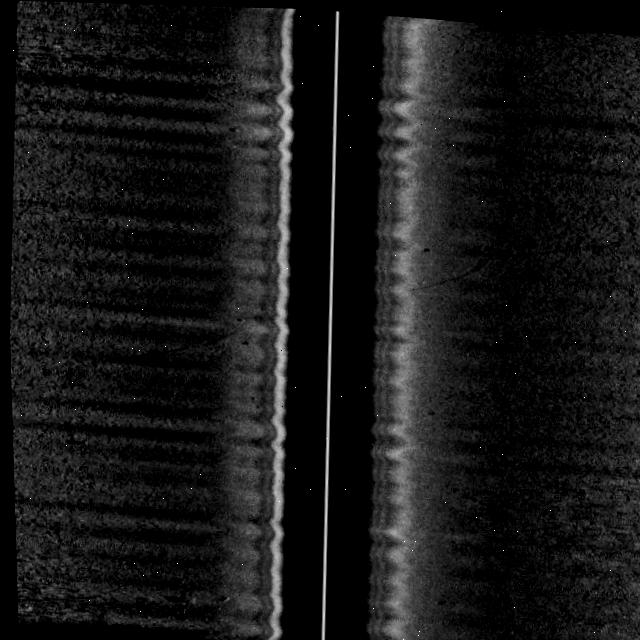mine: (214, 592, 227, 601)
